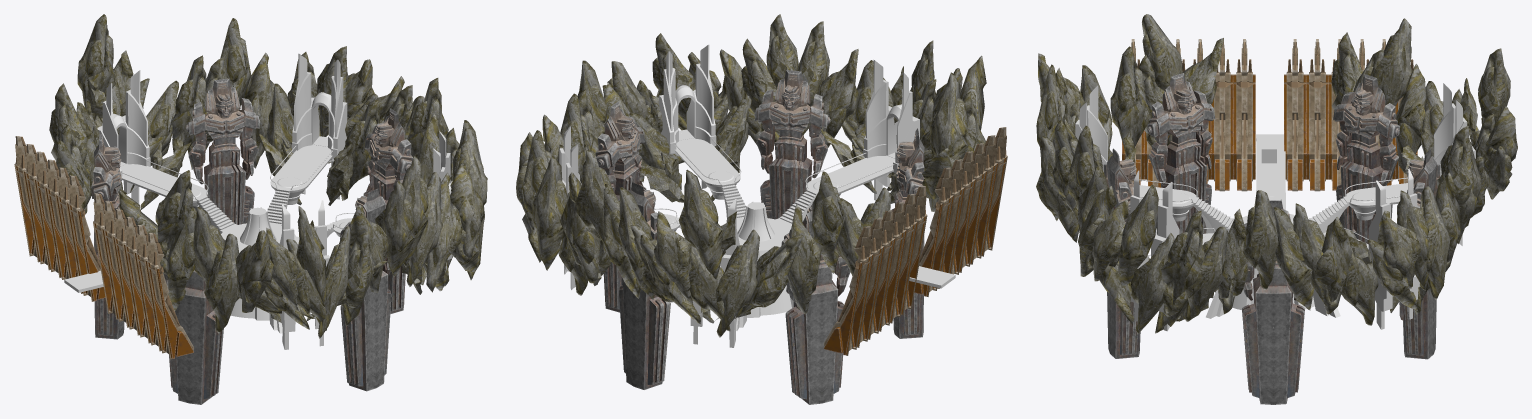
File: Escenario_2.gltf
3 views of the same model, side by side, from view 1: azimuth 30°, elevation 25°; view 2: azimuth 150°, elevation 25°; view 3: azimuth 270°, elevation 25° (orthographic). The views are drawn at different scales.
Visible parts, largest first — view 1: estatua_1.002, estatua_1, estatua_1.004, Cube.054, estatua_1.001, Cube.051, estatua_1.003, Cube.047, Cube.006, Roca_F2_Big.051, Roca_F2_Big.014, Roca_F2_Big.036 (+56 smaller); view 2: estatua_1, estatua_1.003, estatua_1.002, estatua_1.001, Cube.057, Cube.060, Roca_F2_Big.014, estatua_1.004, Roca_F2_Big.005, Cube.048, Roca_F2_Big.017, Cube.010 (+58 smaller); view 3: estatua_1.001, estatua_1.003, estatua_1.004, Cube.003, Cube.012, estatua_1.002, Cube.002, estatua_1, Roca_F2_Big.047, Cube.011, Roca_F2_Big.032, Roca_F2_Big.008 (+50 smaller).
Part boxes in pixels (bbox=[...]): estatua_1.002: bbox=[186, 78, 260, 224]; estatua_1: bbox=[340, 188, 391, 391]; estatua_1.004: bbox=[163, 206, 225, 404]; Cube.054: bbox=[292, 53, 347, 199]; estatua_1.001: bbox=[363, 108, 413, 314]; Cube.051: bbox=[97, 70, 150, 203]; estatua_1.003: bbox=[91, 133, 124, 339]; Cube.047: bbox=[266, 144, 332, 223]; Cube.006: bbox=[147, 233, 193, 359]; Roca_F2_Big.051: bbox=[204, 233, 239, 333]; Roca_F2_Big.014: bbox=[77, 14, 115, 120]; Roca_F2_Big.036: bbox=[375, 180, 415, 276]; estatua_1: bbox=[754, 70, 830, 219]; estatua_1.003: bbox=[781, 202, 850, 404]; estatua_1.002: bbox=[618, 182, 670, 389]; estatua_1.001: bbox=[595, 101, 646, 312]; Cube.057: bbox=[659, 44, 716, 188]; Cube.060: bbox=[863, 60, 919, 200]; Roca_F2_Big.014: bbox=[678, 169, 723, 279]; estatua_1.004: bbox=[891, 128, 924, 338]; Roca_F2_Big.005: bbox=[532, 155, 567, 270]; Cube.048: bbox=[675, 138, 746, 217]; Roca_F2_Big.017: bbox=[716, 229, 759, 337]; Cube.010: bbox=[823, 226, 871, 355]; estatua_1.001: bbox=[1242, 200, 1304, 404]; estatua_1.003: bbox=[1333, 74, 1399, 244]; estatua_1.004: bbox=[1147, 73, 1215, 234]; Cube.003: bbox=[1306, 39, 1328, 191]; Cube.012: bbox=[1233, 39, 1255, 191]; estatua_1.002: bbox=[1399, 149, 1440, 359]; Cube.002: bbox=[1284, 39, 1306, 191]; estatua_1: bbox=[1103, 148, 1140, 358]; Roca_F2_Big.047: bbox=[1110, 46, 1151, 162]; Cube.011: bbox=[1211, 40, 1233, 191]; Roca_F2_Big.032: bbox=[1161, 210, 1204, 313]; Roca_F2_Big.008: bbox=[1117, 185, 1158, 289].
Size of what is drawn, in the model's own units: 57.3 by 37.9 by 62.73.
Materials: 3 (3 with a texture image).
